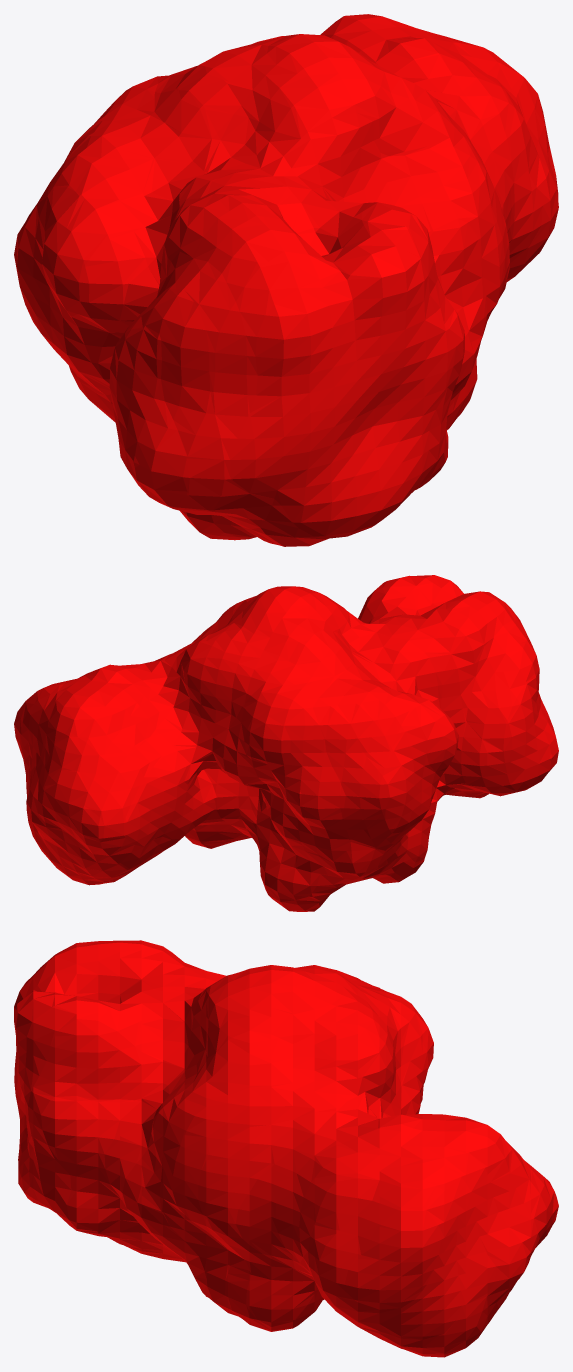
Rendered from pykF_coarse.dae.
3 renders of one model, top to bottom at view 1: azimuth 30°, elevation 25°; view 2: azimuth 150°, elevation 25°; view 3: azimuth 270°, elevation 25°, orthographic. The views are drawn at different scales.
Visible parts, largest first — view 1: pykF; view 2: pykF; view 3: pykF.
Boxes of the visible parts, x1,y1,x2,y2 form: pykF: [14, 14, 558, 546]; pykF: [14, 575, 558, 911]; pykF: [14, 940, 558, 1357].
Bounding box in the file's own units: 72.23 × 51.94 × 72.93.
